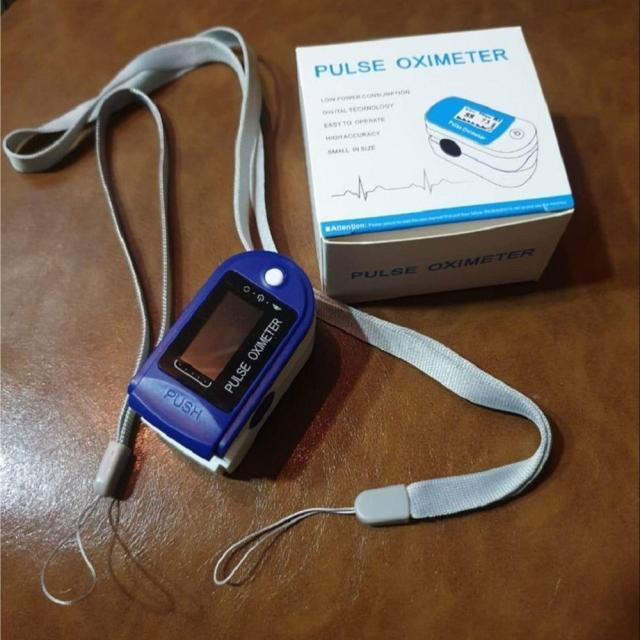oximeter: (103, 193, 350, 510)
